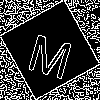M: (25, 25, 78, 80)
